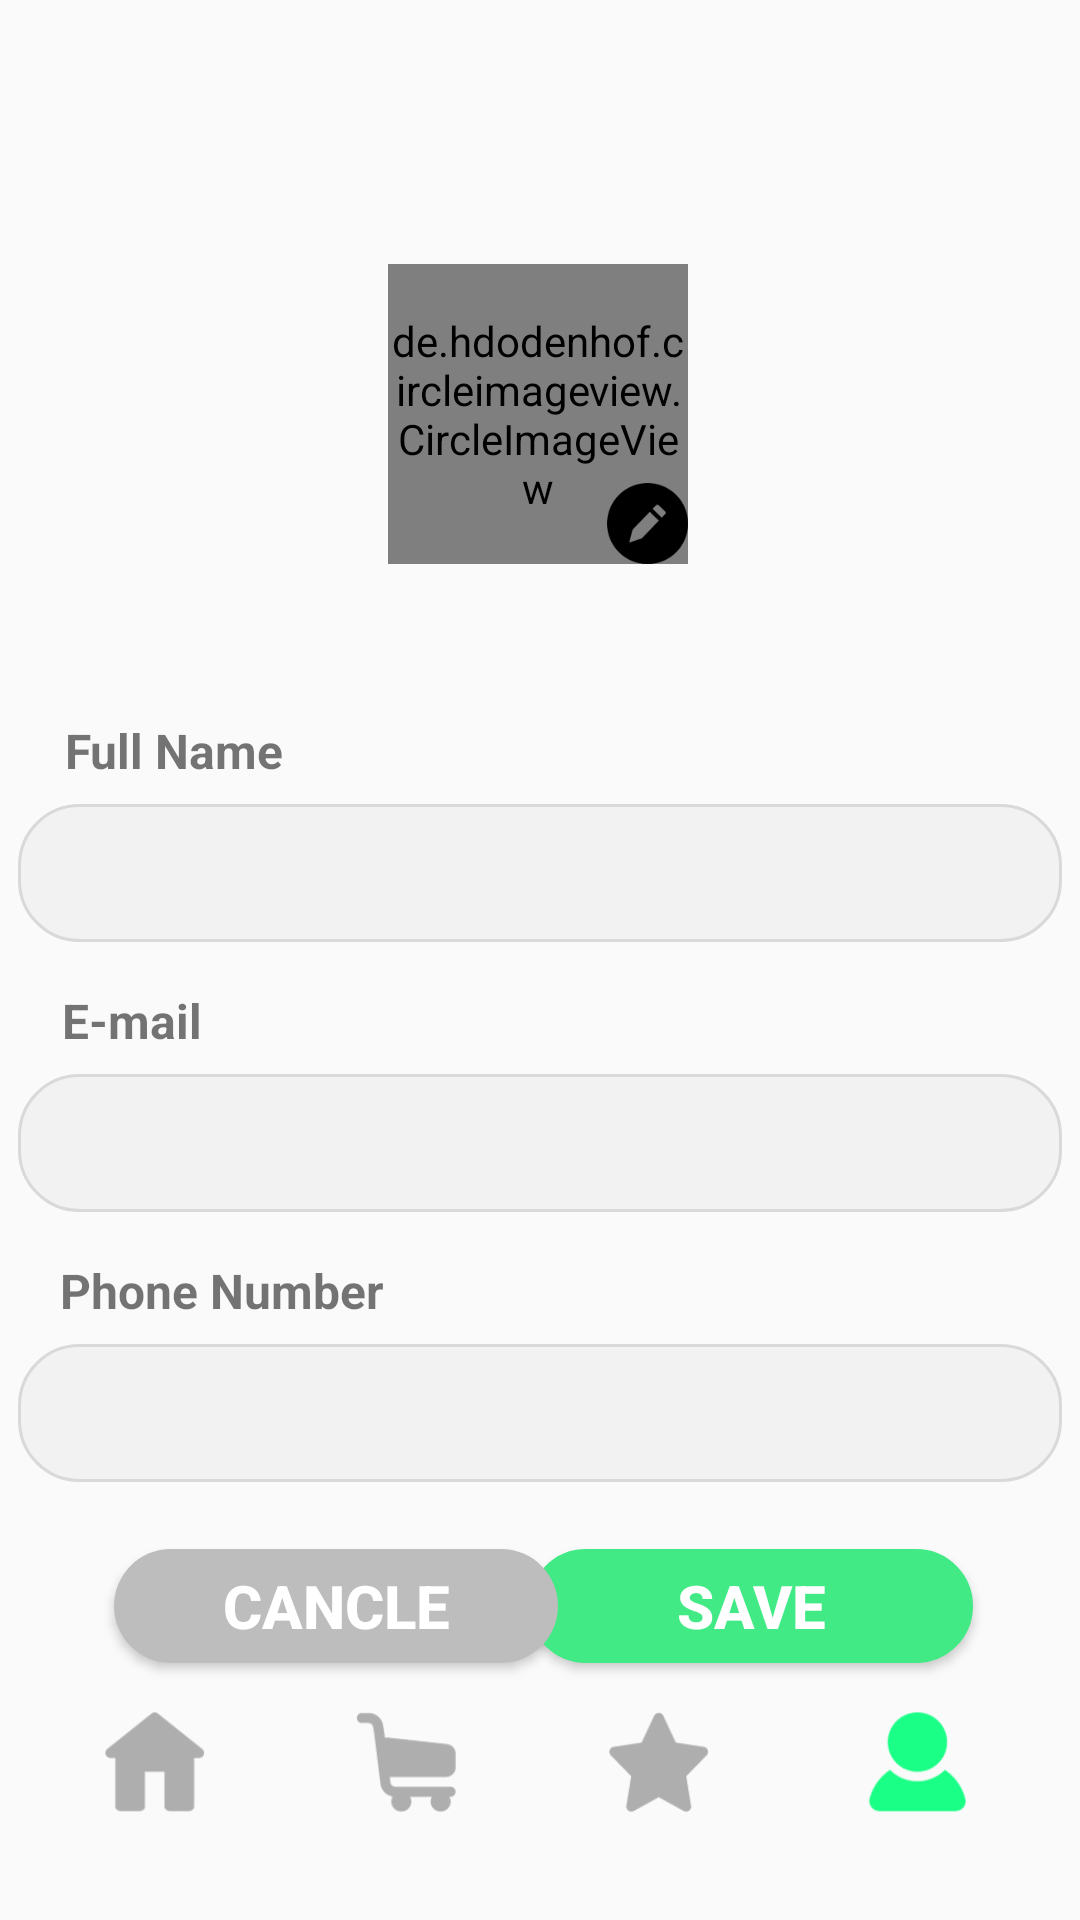

Locate icon controls on the screen. Image size 1080 × 1920, boxes as (x1, y1, x2, y2).
cart: (357, 1713, 456, 1812)
homeblack: (105, 1712, 204, 1811)
profile: (869, 1712, 966, 1812)
star: (609, 1713, 708, 1812)
